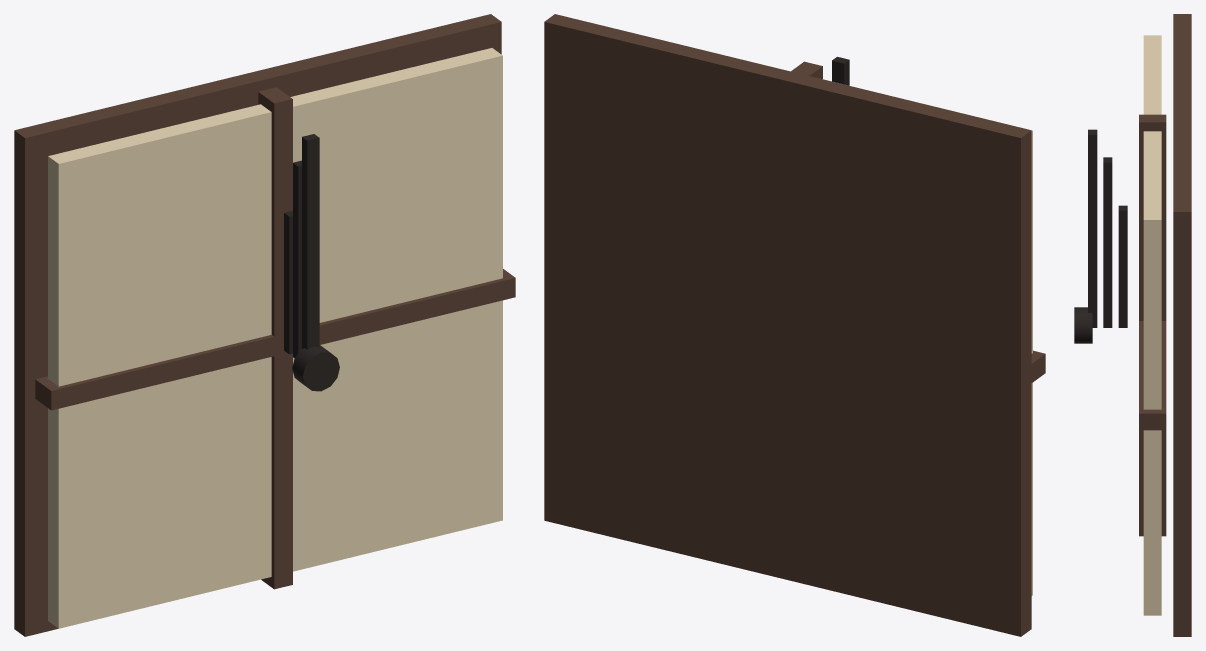
The picture shows the model from 3 angles, left to right: view 1: azimuth 30°, elevation 25°; view 2: azimuth 150°, elevation 25°; view 3: azimuth 270°, elevation 25°; orthographic projection. The views are drawn at different scales.
Visible parts, largest first — view 1: clock-face, clock-back, clock-spoke-4, clock-spoke-3, clock-spoke-1, clock-spoke-2, clock-second-hand, clock-minute-hand, clock-center-cap, clock-hour-hand; view 2: clock-back, clock-face; view 3: clock-back, clock-face, clock-spoke-1, clock-second-hand, clock-minute-hand, clock-spoke-2, clock-hour-hand, clock-spoke-3, clock-center-cap.
Boxes of the visible parts, bbox=[...] form: clock-face: bbox=[48, 48, 502, 628]; clock-back: bbox=[14, 14, 501, 636]; clock-spoke-4: bbox=[35, 335, 283, 410]; clock-spoke-3: bbox=[261, 344, 292, 589]; clock-spoke-1: bbox=[258, 87, 292, 346]; clock-spoke-2: bbox=[283, 269, 515, 353]; clock-second-hand: bbox=[302, 134, 319, 349]; clock-minute-hand: bbox=[293, 160, 301, 357]; clock-center-cap: bbox=[292, 345, 339, 391]; clock-hour-hand: bbox=[284, 210, 292, 354]; clock-back: bbox=[544, 14, 1031, 636]; clock-face: bbox=[602, 25, 1032, 595]; clock-back: bbox=[1173, 14, 1191, 636]; clock-face: bbox=[1143, 35, 1161, 615]; clock-spoke-1: bbox=[1139, 114, 1166, 320]; clock-second-hand: bbox=[1088, 129, 1097, 327]; clock-minute-hand: bbox=[1103, 157, 1112, 327]; clock-spoke-2: bbox=[1139, 321, 1166, 430]; clock-hour-hand: bbox=[1118, 205, 1127, 327]; clock-spoke-3: bbox=[1139, 430, 1166, 536]; clock-center-cap: bbox=[1074, 307, 1092, 343].
Bounding box in the file's own units: 0.308 × 0.308 × 0.077.
